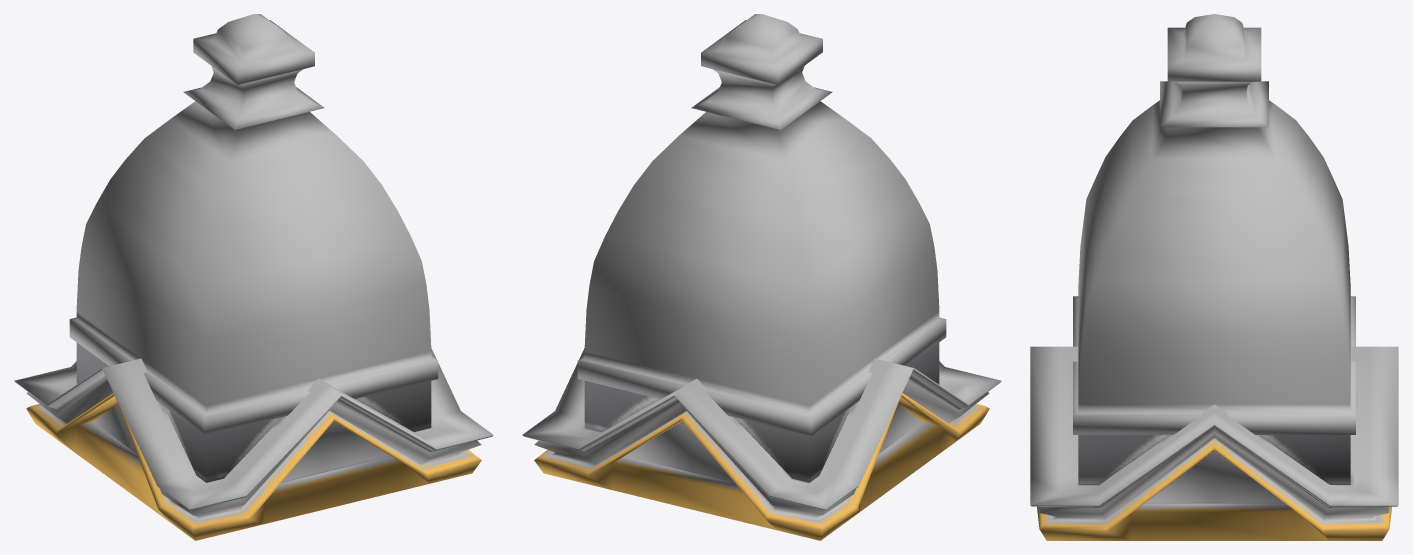
The model's file is TetoFrontal.fbx.
3 renders of one model, left to right at view 1: azimuth 30°, elevation 25°; view 2: azimuth 150°, elevation 25°; view 3: azimuth 270°, elevation 25°, orthographic. The views are drawn at different scales.
Visible parts, largest first — view 1: TetoFrontalLow; view 2: TetoFrontalLow; view 3: TetoFrontalLow.
Part boxes in pixels (<box>): TetoFrontalLow: <box>14,14,493,540</box>; TetoFrontalLow: <box>522,14,1001,540</box>; TetoFrontalLow: <box>1030,14,1398,540</box>.
Bounding box in the file's own units: 351 × 480 × 351.
